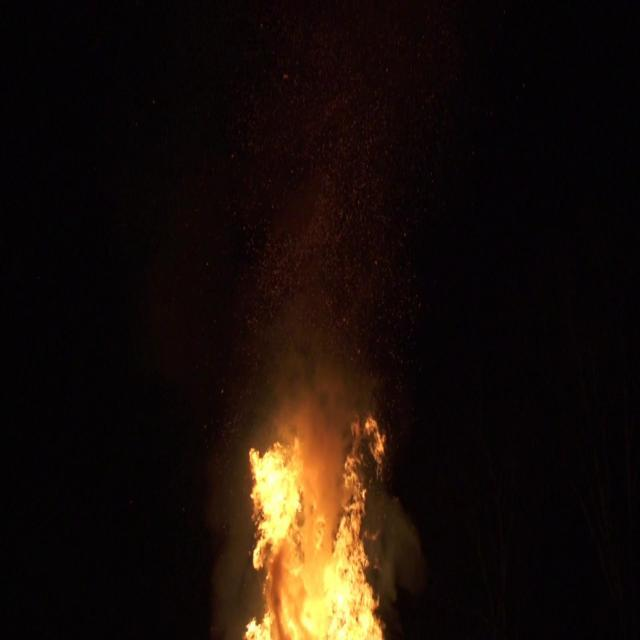Fire: (232, 354, 390, 640)
